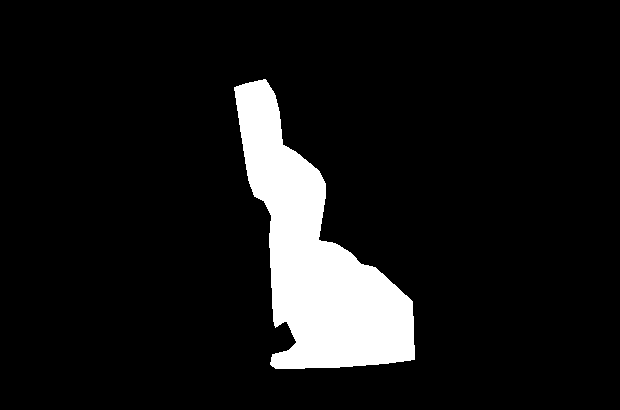type2: (231, 77, 417, 369)
